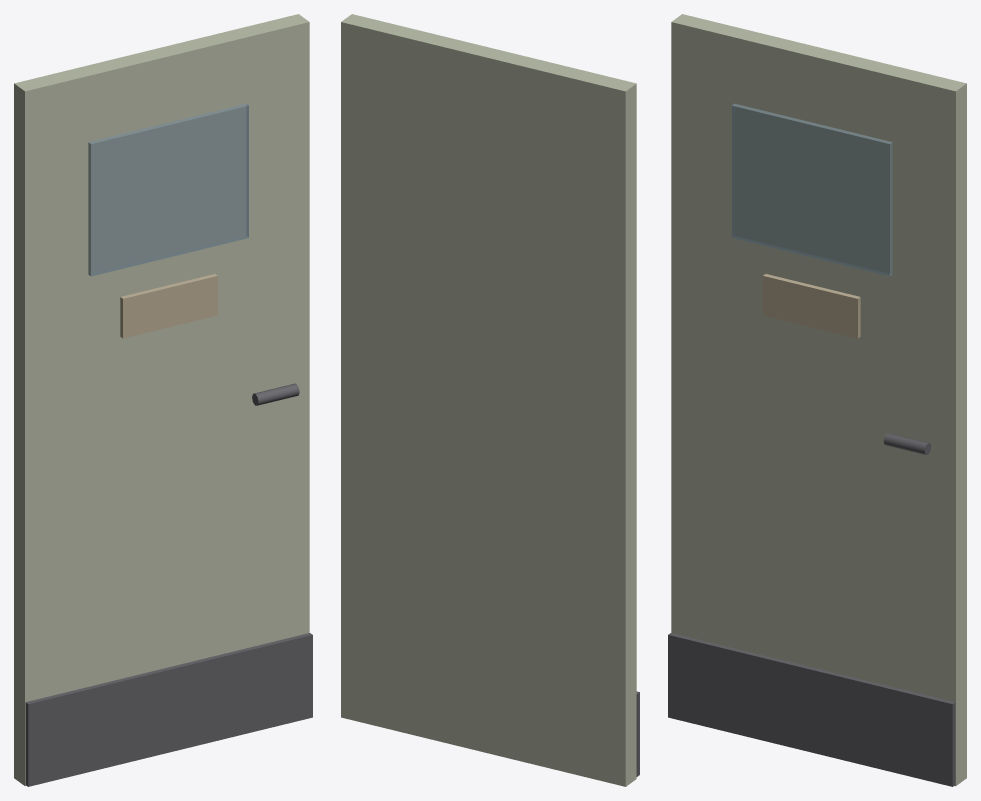
Rendered from SM_P2_Door_Clinic_A.obj.
3 views of the same model, side by side, from view 1: azimuth 30°, elevation 25°; view 2: azimuth 150°, elevation 25°; view 3: azimuth 330°, elevation 25° (orthographic).
Parts seen in each view (by area): view 1: leaf, kickplate, vision_panel, sign_plate, lever_handle; view 2: leaf; view 3: leaf, kickplate, vision_panel, sign_plate, lever_handle.
Part boxes in pixels (bbox=[...]): leaf: bbox=[14, 14, 309, 786]; kickplate: bbox=[25, 633, 312, 786]; vision_panel: bbox=[88, 103, 248, 276]; sign_plate: bbox=[120, 274, 217, 338]; lever_handle: bbox=[252, 383, 299, 405]; leaf: bbox=[341, 14, 636, 786]; leaf: bbox=[671, 14, 966, 786]; kickplate: bbox=[668, 633, 955, 786]; vision_panel: bbox=[732, 103, 892, 276]; sign_plate: bbox=[763, 274, 860, 338]; lever_handle: bbox=[883, 433, 931, 454].
Size of the model in its own units: 0.9 by 2.1 by 0.118.
